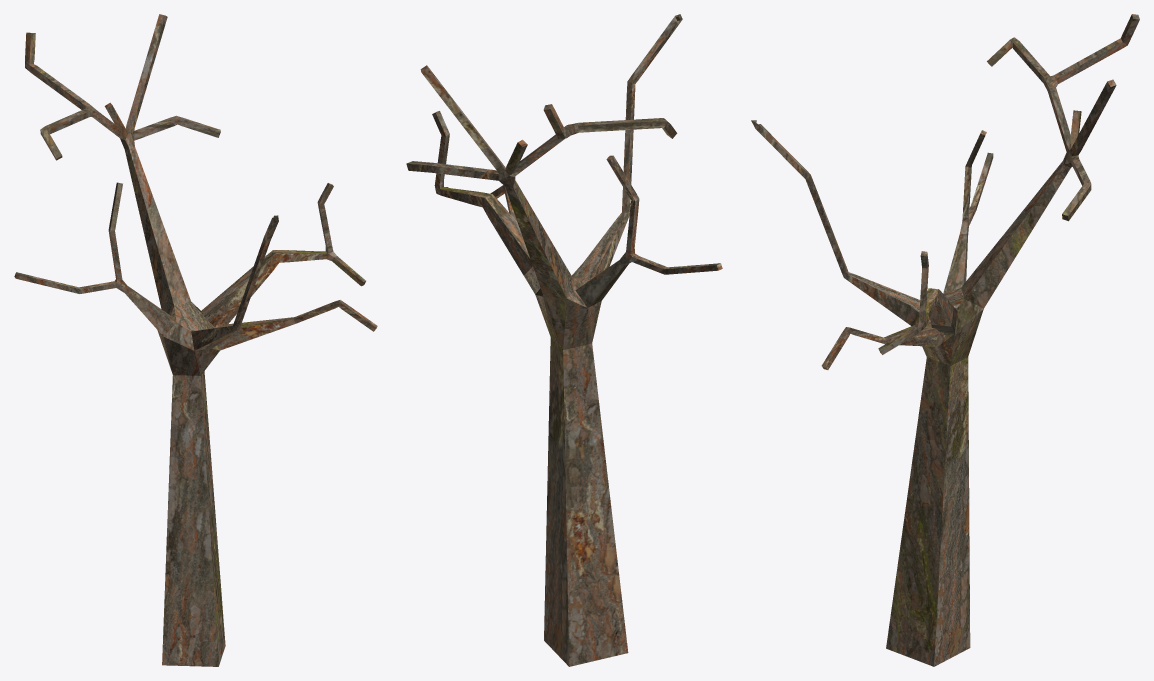
File: дерево(wip) (1).fbx
The picture shows the model from 3 angles, left to right: view 1: azimuth 30°, elevation 25°; view 2: azimuth 150°, elevation 25°; view 3: azimuth 270°, elevation 25°; orthographic projection. The views are drawn at different scales.
Parts seen in each view (by area): view 1: дерево; view 2: дерево; view 3: дерево.
Boxes of the visible parts, x1,y1,x2,y2 form: дерево: [14, 14, 377, 666]; дерево: [406, 14, 722, 666]; дерево: [751, 14, 1139, 666].
Size of the model in its own units: 144 by 263 by 154.
